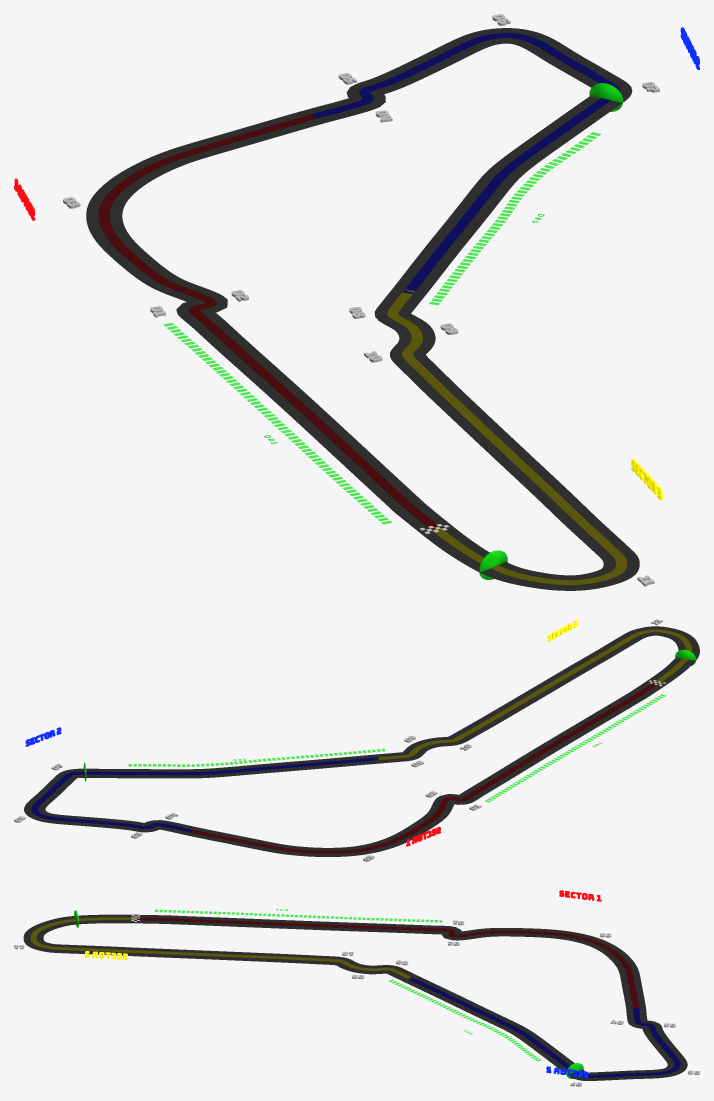
The model's file is monza.gltf.
3 views of the same model, one above another, from view 1: azimuth 30°, elevation 25°; view 2: azimuth 150°, elevation 25°; view 3: azimuth 270°, elevation 25° (orthographic). The views are drawn at different scales.
Parts seen in each view (by area): view 1: track plane, track plane.001, track plane.002, track plane.003, DRSPlane1.001, DRSPlane1.002; view 2: track plane, track plane.001, track plane.002, track plane.003, DRSPlane1.001, DRSPlane1.002; view 3: track plane, track plane.001, track plane.003, track plane.002, DRSPlane1.001, DRSPlane1.002.
Part boxes in pixels (x1,y1,x2,y2): track plane: (86, 28, 639, 590); track plane.001: (98, 114, 440, 529); track plane.002: (311, 33, 619, 293); track plane.003: (387, 289, 627, 585); DRSPlane1.001: (163, 323, 391, 524); DRSPlane1.002: (429, 132, 600, 305); track plane: (24, 626, 699, 856); track plane.001: (191, 682, 658, 853); track plane.002: (31, 757, 378, 832); track plane.003: (376, 629, 692, 760); DRSPlane1.001: (484, 694, 666, 802); DRSPlane1.002: (128, 748, 385, 766); track plane: (23, 914, 687, 1080); track plane.001: (136, 917, 639, 1007); track plane.003: (30, 917, 414, 979); track plane.002: (408, 977, 680, 1077); DRSPlane1.001: (155, 909, 442, 922); DRSPlane1.002: (388, 980, 541, 1061).
Bounding box in the file's own units: 100 × 7.56 × 155.
